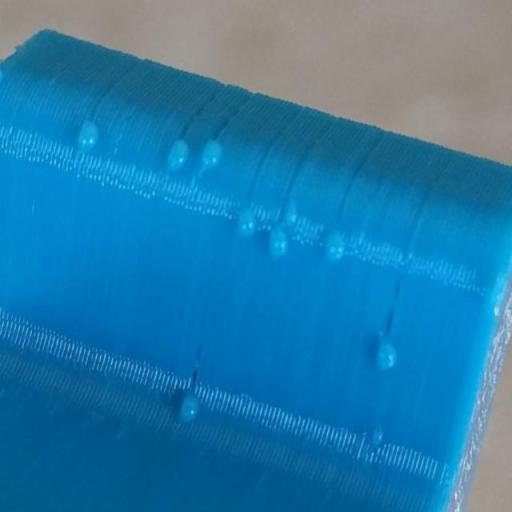blobs: (162, 134, 196, 176), (76, 116, 104, 156), (199, 137, 222, 177), (320, 230, 346, 264), (231, 210, 260, 238), (376, 344, 400, 377), (269, 226, 289, 263), (176, 394, 202, 422), (367, 426, 388, 448), (281, 200, 298, 222)
